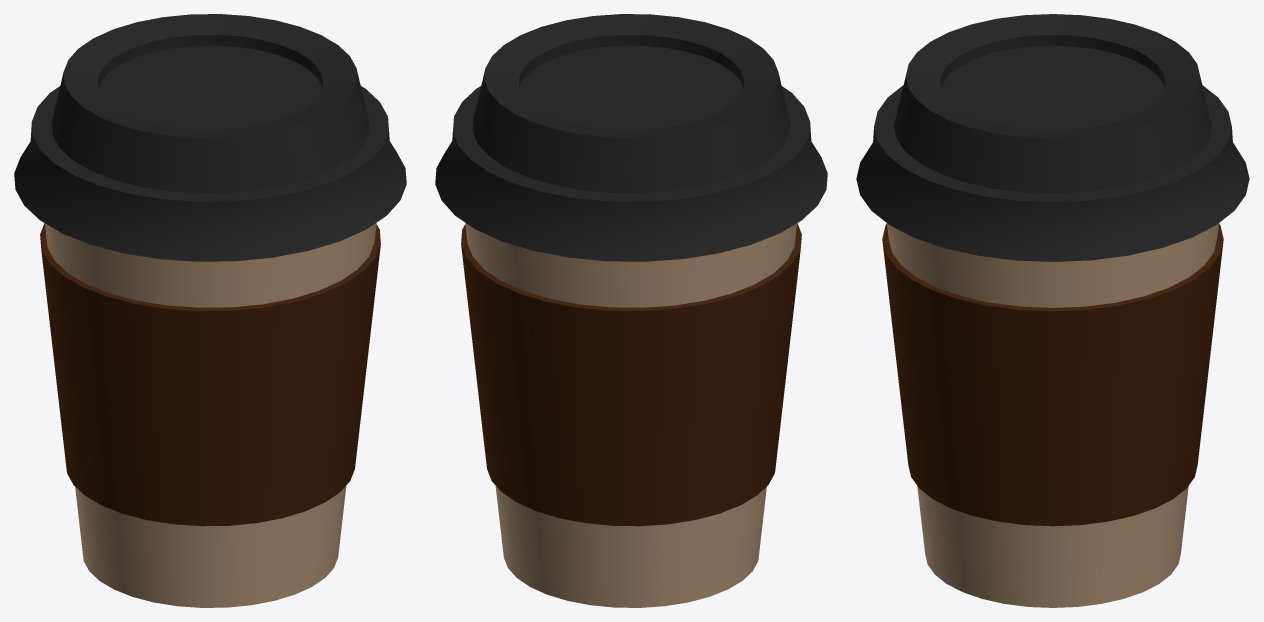
Rendered from coffee_cup.fbx.
3 views of the same model, side by side, from view 1: azimuth 30°, elevation 25°; view 2: azimuth 150°, elevation 25°; view 3: azimuth 270°, elevation 25° (orthographic).
Visible parts, largest first — view 1: coffee_cup; view 2: coffee_cup; view 3: coffee_cup.
Boxes of the visible parts, bbox=[...] form: coffee_cup: bbox=[14, 14, 406, 607]; coffee_cup: bbox=[435, 14, 827, 607]; coffee_cup: bbox=[856, 14, 1249, 607].
Size of the model in its own units: 68.83 by 92.26 by 68.83.
